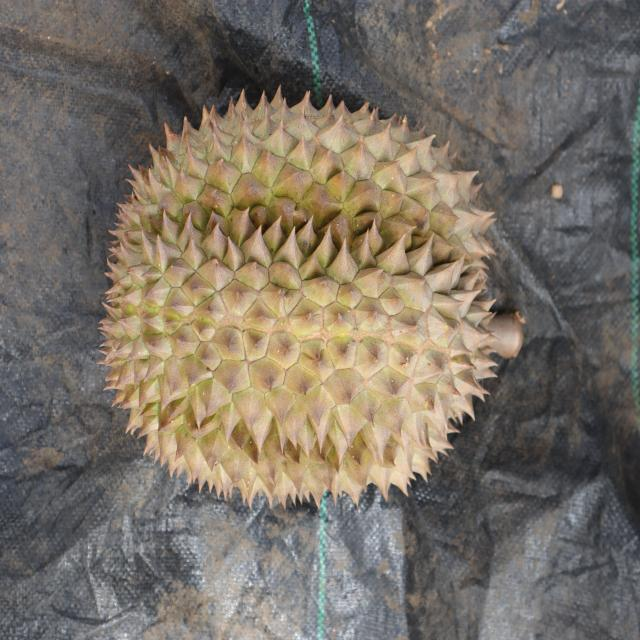mature: (97, 86, 502, 508)
